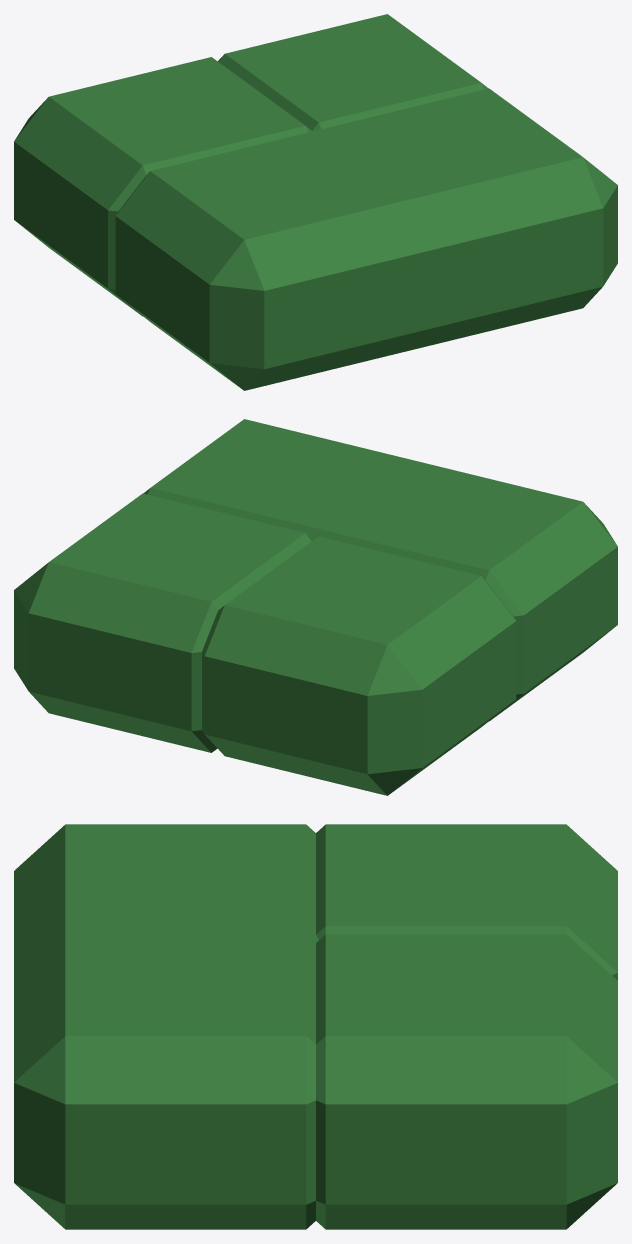
File: m_kub_dung_floor_mixed.fbx
The picture shows the model from 3 angles, top to bottom: view 1: azimuth 30°, elevation 25°; view 2: azimuth 150°, elevation 25°; view 3: azimuth 270°, elevation 25°; orthographic projection. The views are drawn at different scales.
Parts seen in each view (by area): view 1: m_kub_dung_floor_mixed; view 2: m_kub_dung_floor_mixed; view 3: m_kub_dung_floor_mixed.
Part boxes in pixels (box(x1,y1,x2,y2)): m_kub_dung_floor_mixed: box(14, 14, 617, 390); m_kub_dung_floor_mixed: box(14, 419, 617, 795); m_kub_dung_floor_mixed: box(14, 824, 617, 1229).
Bounding box in the file's own units: 2.32 × 0.8205 × 2.32.
